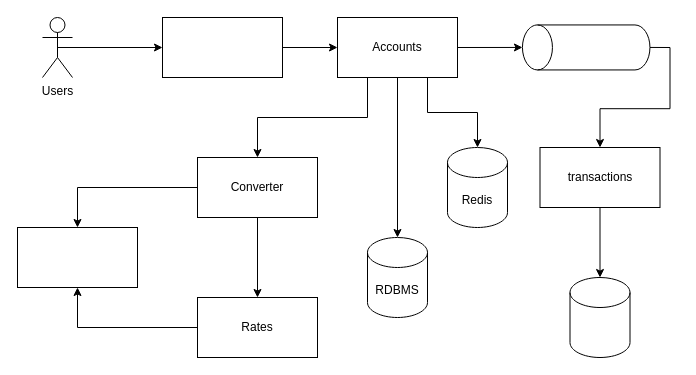
This 696x375 diagram has some shape labels left out. Here are the shapes that lost their labels. From the top down, the box of each, then its label:
(162, 16, 282, 78): web-ui
(522, 24, 650, 70): Kafka
(16, 226, 138, 288): Keycloak
(569, 276, 630, 358): MongoDB
